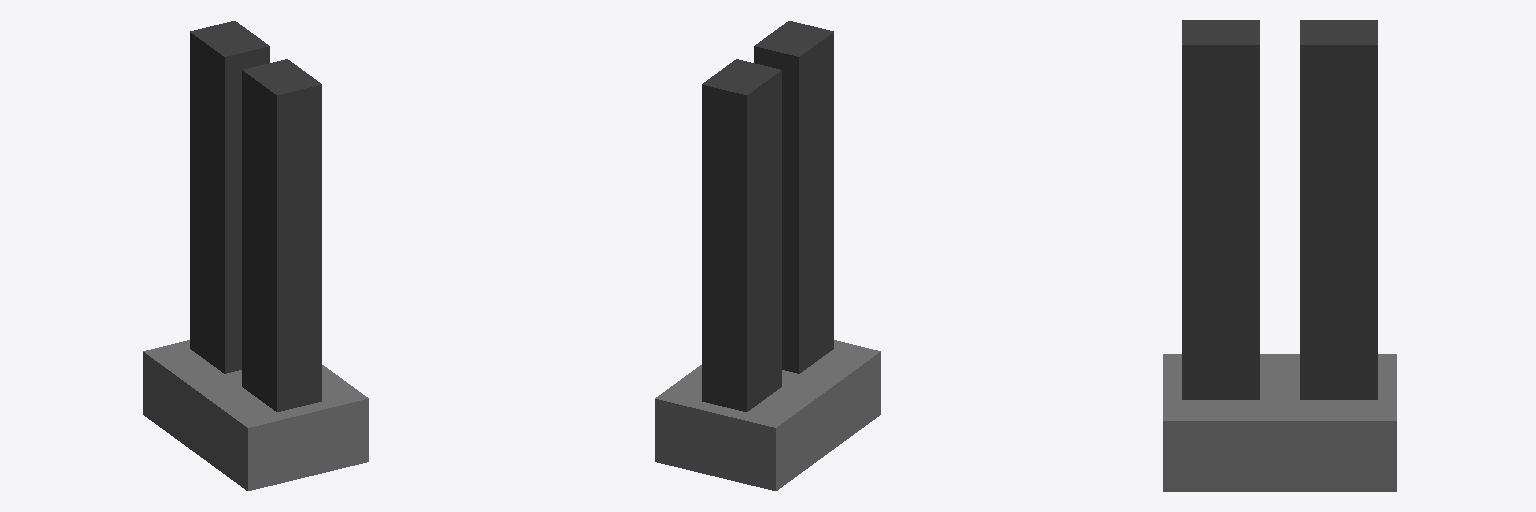
URDF robot description (test_gripper):
<?xml version="1.0"?>
<robot name="test_gripper">

  <gripper_metadata>
    <base_link name="gripper_base"/>

    <finger finger_id="1" link="left_finger" joint="left_finger_joint"/>
    <finger finger_id="2" link="right_finger" joint="right_finger_joint"/>

    <gripper_type>parallel</gripper_type>

    <tcp_offset xyz="0 0 0.22" rpy="0 0 0"/>
  </gripper_metadata>

  <link name="gripper_base">
    <visual>
      <origin xyz="0 0 0" rpy="0 0 0"/>
      <geometry>
        <box size="0.08 0.12 0.04"/>
      </geometry>
      <material name="gray">
        <color rgba="0.5 0.5 0.5 1"/>
      </material>
    </visual>
    <collision>
      <origin xyz="0 0 0" rpy="0 0 0"/>
      <geometry>
        <box size="0.08 0.12 0.04"/>
      </geometry>
    </collision>
    <inertial>
      <mass value="0.5"/>
      <origin xyz="0 0 0" rpy="0 0 0"/>
      <inertia ixx="0.001" ixy="0.0" ixz="0.0" iyy="0.001" iyz="0.0" izz="0.001"/>
    </inertial>
  </link>

  <link name="left_finger">
    <visual>
      <origin xyz="0 0 0.1" rpy="0 0 0"/>
      <geometry>
        <box size="0.03 0.04 0.20"/>
      </geometry>
      <material name="dark_gray">
        <color rgba="0.3 0.3 0.3 1"/>
      </material>
    </visual>
    <collision>
      <origin xyz="0 0 0.1" rpy="0 0 0"/>
      <geometry>
        <box size="0.03 0.04 0.20"/>
      </geometry>
    </collision>
    <inertial>
      <mass value="0.2"/>
      <origin xyz="0 0 -0.1" rpy="0 0 0"/>
      <inertia ixx="0.0007" ixy="0.0" ixz="0.0" iyy="0.0007" iyz="0.0" izz="0.00005"/>
    </inertial>
  </link>

  <link name="right_finger">
    <visual>
      <origin xyz="0 0 0.1" rpy="0 0 0"/>
      <geometry>
        <box size="0.03 0.04 0.20"/>
      </geometry>
      <material name="dark_gray">
        <color rgba="0.3 0.3 0.3 1"/>
      </material>
    </visual>
    <collision>
      <origin xyz="0 0 0.1" rpy="0 0 0"/>
      <geometry>
        <box size="0.03 0.04 0.20"/>
      </geometry>
    </collision>
    <inertial>
      <mass value="0.2"/>
      <origin xyz="0 0 -0.1" rpy="0 0 0"/>
      <inertia ixx="0.0007" ixy="0.0" ixz="0.0" iyy="0.0007" iyz="0.0" izz="0.00005"/>
    </inertial>
  </link>

  <joint name="left_finger_joint" type="prismatic">
    <parent link="gripper_base"/>
    <child link="left_finger"/>
    <origin xyz="0 0.03 0.02" rpy="0 0 0"/>
    <axis xyz="0 1 0"/>
    <limit lower="0.0" upper="0.15" effort="100" velocity="0.1"/>
    <dynamics damping="1.0" friction="2.0"/>
  </joint>

  <joint name="right_finger_joint" type="prismatic">
    <parent link="gripper_base"/>
    <child link="right_finger"/>
    <origin xyz="0 -0.03 0.02" rpy="0 0 0"/>
    <axis xyz="0 -1 0"/>
    <limit lower="0.0" upper="0.15" effort="100" velocity="0.1"/>
    <dynamics damping="1.0" friction="2.0"/>
  </joint>

</robot>

--- What the picture shows (computed from the rendered views, not written in the file) ---
Views: 3 orthographic renders of the robot side by side, from view 1: azimuth 30°, elevation 25°; view 2: azimuth 150°, elevation 25°; view 3: azimuth 270°, elevation 25°.
Model test_gripper with 3 links and 2 joints (2 prismatic), rooted at gripper_base, posed all joints at 0.
Links seen in each view (by area): view 1: right_finger, gripper_base, left_finger; view 2: left_finger, gripper_base, right_finger; view 3: left_finger, right_finger, gripper_base.
Boxes of the visible links, x1,y1,x2,y2 form: right_finger: [242, 59, 321, 411]; gripper_base: [143, 340, 368, 490]; left_finger: [190, 21, 269, 373]; left_finger: [702, 59, 781, 411]; gripper_base: [655, 340, 880, 490]; right_finger: [754, 21, 833, 373]; left_finger: [1300, 20, 1377, 399]; right_finger: [1182, 20, 1259, 399]; gripper_base: [1163, 354, 1396, 491].
Size in the robot's own frame: 0.08 by 0.12 by 0.24 metres.
Geometry: primitives only (box / cylinder / sphere), no mesh files.
